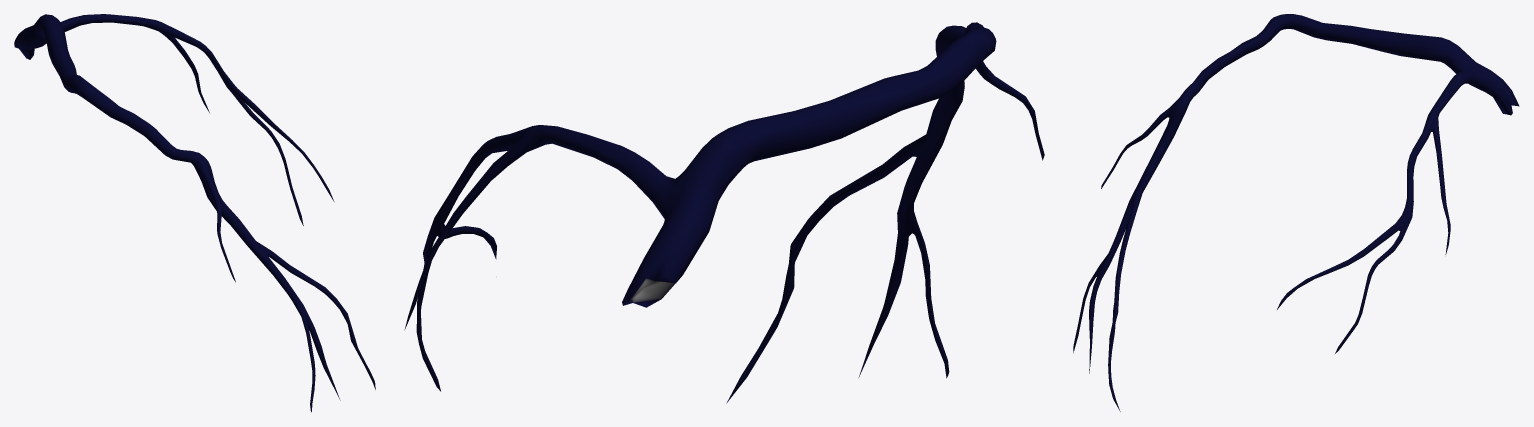
Rendered from VeiaAzul1.fbx.
3 renders of one model, left to right at view 1: azimuth 30°, elevation 25°; view 2: azimuth 150°, elevation 25°; view 3: azimuth 270°, elevation 25°, orthographic. The views are drawn at different scales.
Visible parts, largest first — view 1: veins_4; view 2: veins_4; view 3: veins_4.
Boxes of the visible parts, <box> form: veins_4: <box>14,14,375,412</box>; veins_4: <box>404,22,1044,403</box>; veins_4: <box>1073,14,1519,411</box>.
Bounding box in the file's own units: 0.5594 × 0.6252 × 0.8499.
